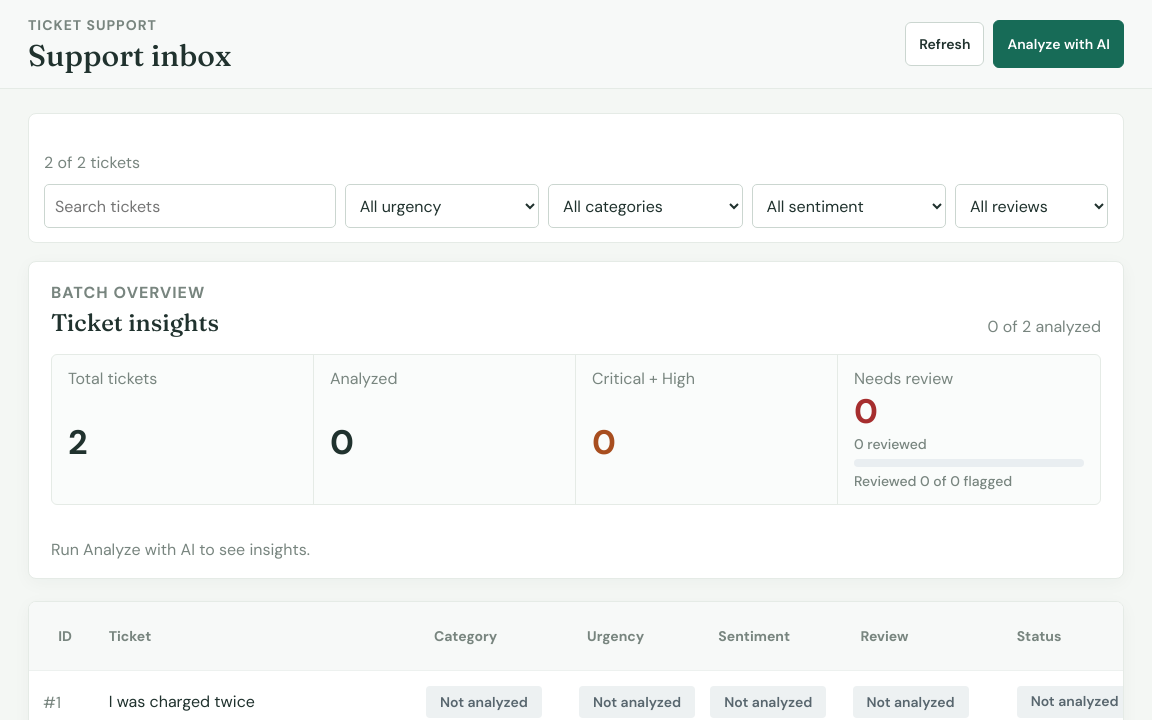
Test case: App › keeps only one analyze request in flight
This screenshot has width=1152, height=720.
Expected: the text "I was charged twice" is shown, [109,691,255,712]
Step 1. Click the button "Analyze with AI" → (1059, 44), box [993,20,1124,68]
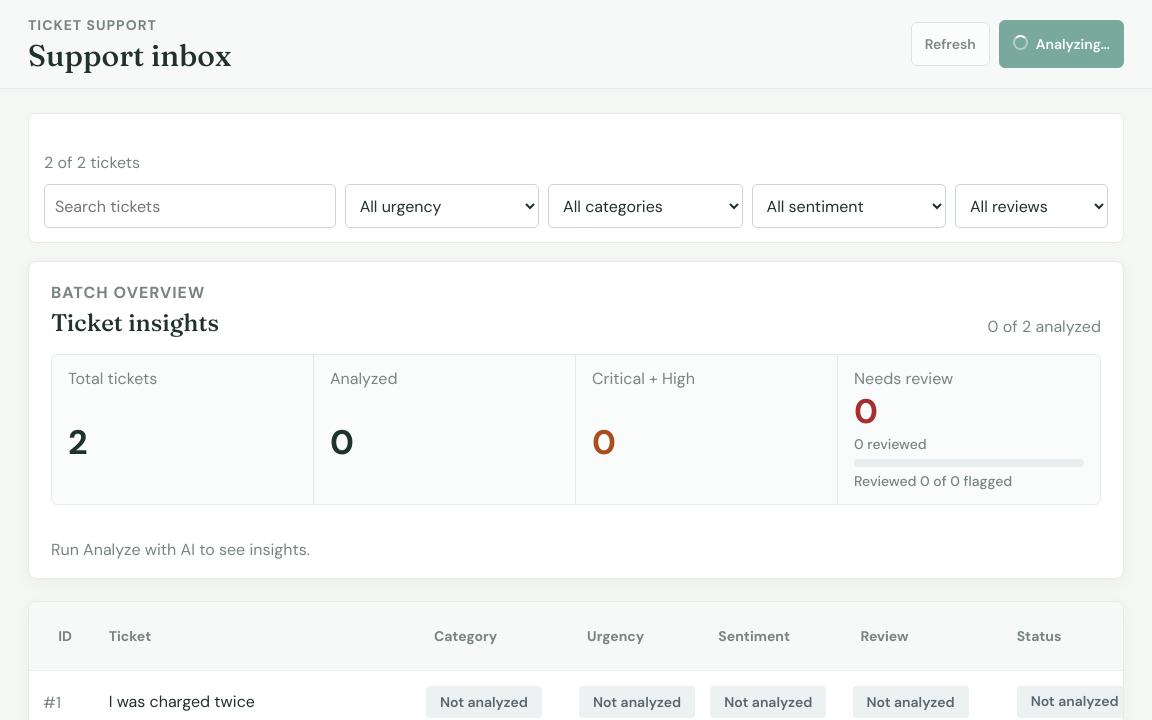
Result: the button named "Analyze with AI" is disabled
Step 2. Click the button named "Analyze with AI" → (1061, 44), box [999,20,1124,68]
(page scrolled)
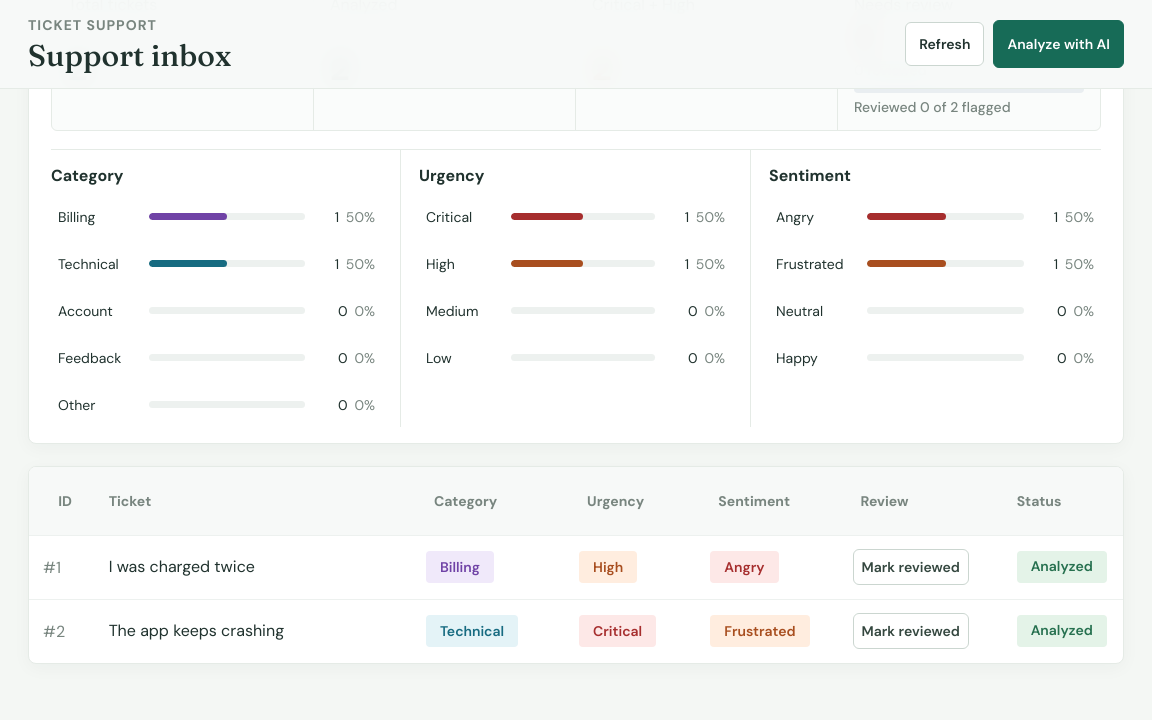
Result: the text "Billing" in the row of "I was charged twice" is shown at [440,558,480,576]
